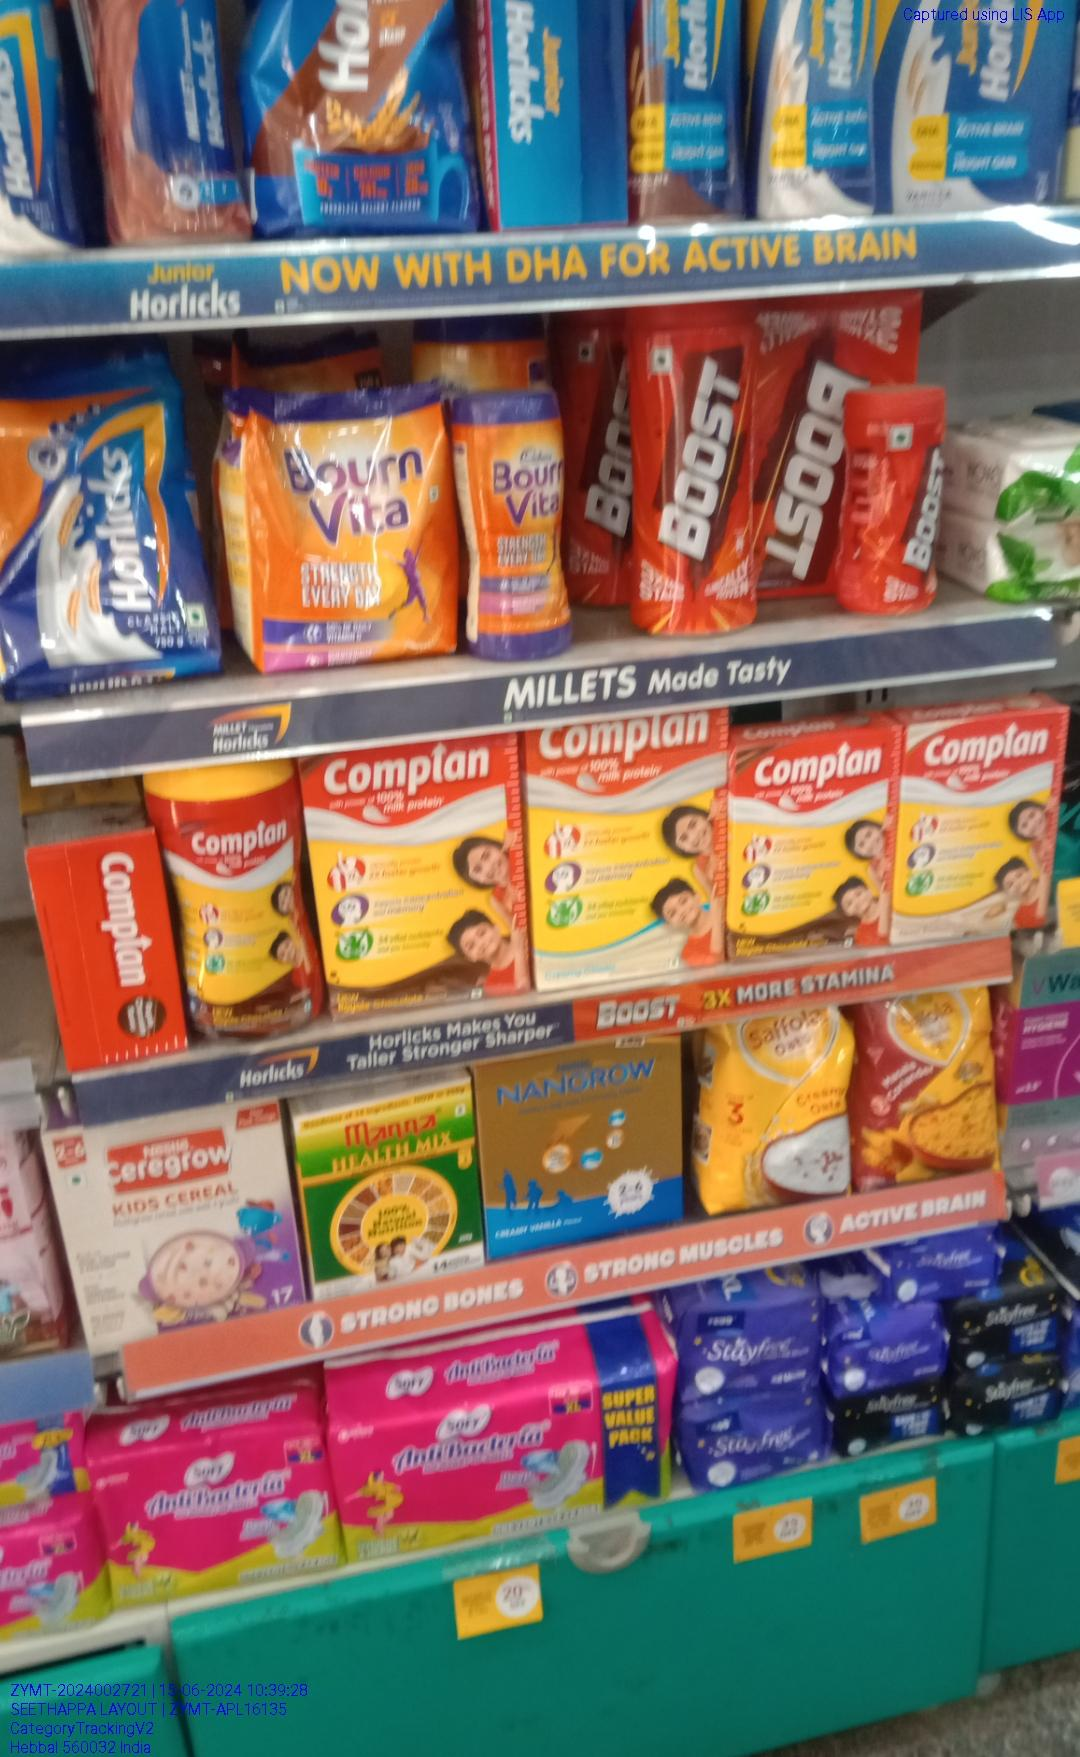BOURN_VITA_500_G_JAR: (465, 394, 572, 661)
BOURN_VITA_500_G_POUCH: (241, 387, 458, 654)
COMPLAN_CHOCOLATE_200_GMS_PACK: (740, 740, 899, 963)
COMPLAN_CHOCOLATE_500_GMS_JAR: (168, 758, 321, 1039)
COMPLAN_CHOCOLATE_500_GMS_PACK: (329, 740, 528, 1004)
COMPLAN_CREAMY_CLASSIC_500_G_PACK: (533, 714, 734, 983)
COMPLAN_KESAR_BADAM_200_GMS_PACK: (896, 720, 1064, 948)
HORLICK_CLASSIC_MALT_750_G_POUCH: (0, 373, 203, 694)
